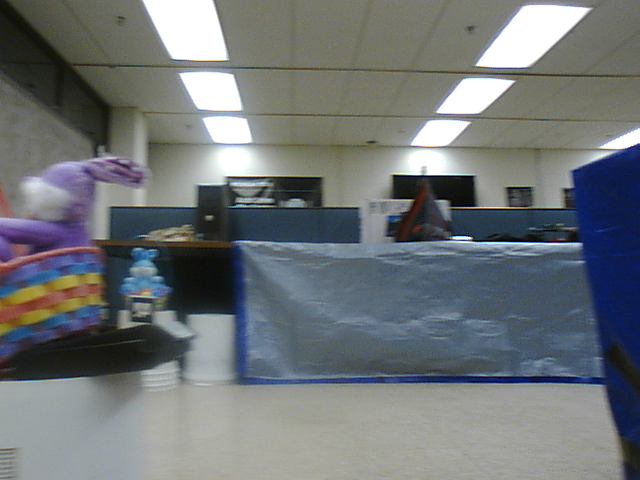bunny: (1, 159, 151, 361), (115, 239, 181, 307)
